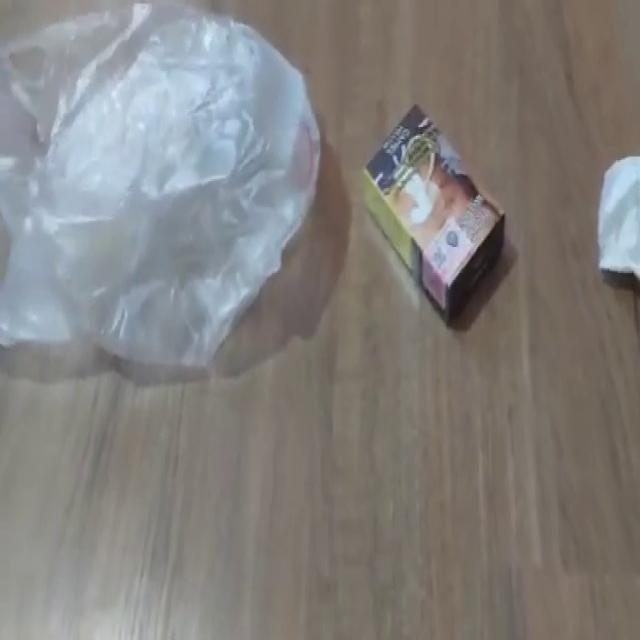Anorganik: (1, 2, 326, 377)
Organik: (361, 96, 509, 334), (593, 150, 640, 280)
